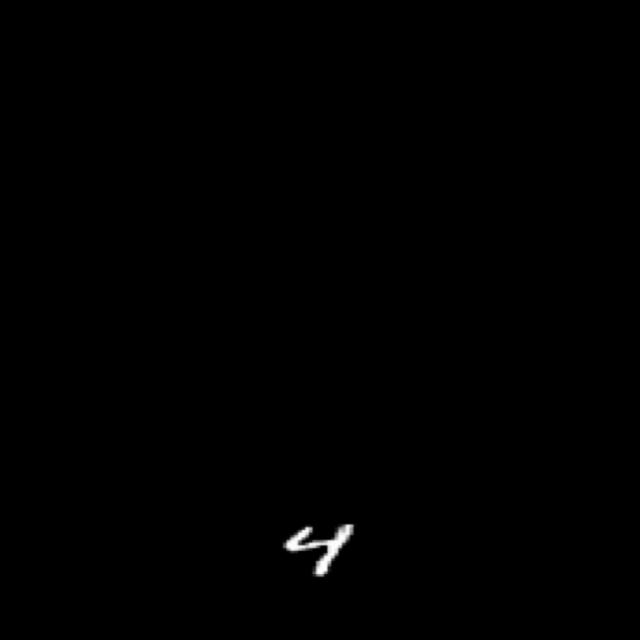four -4-: (271, 505, 373, 597)
